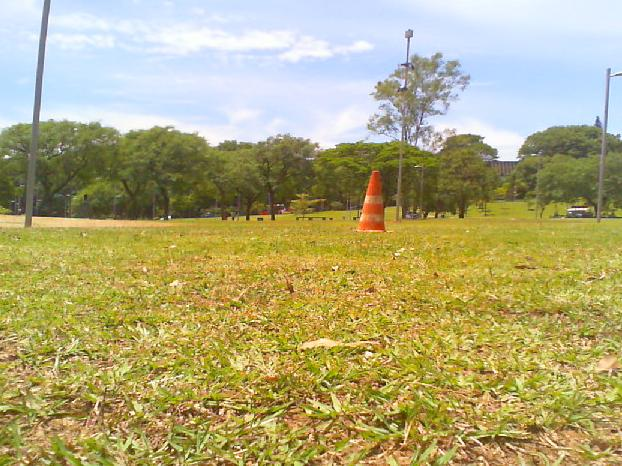0 cone: (354, 172, 396, 233)
